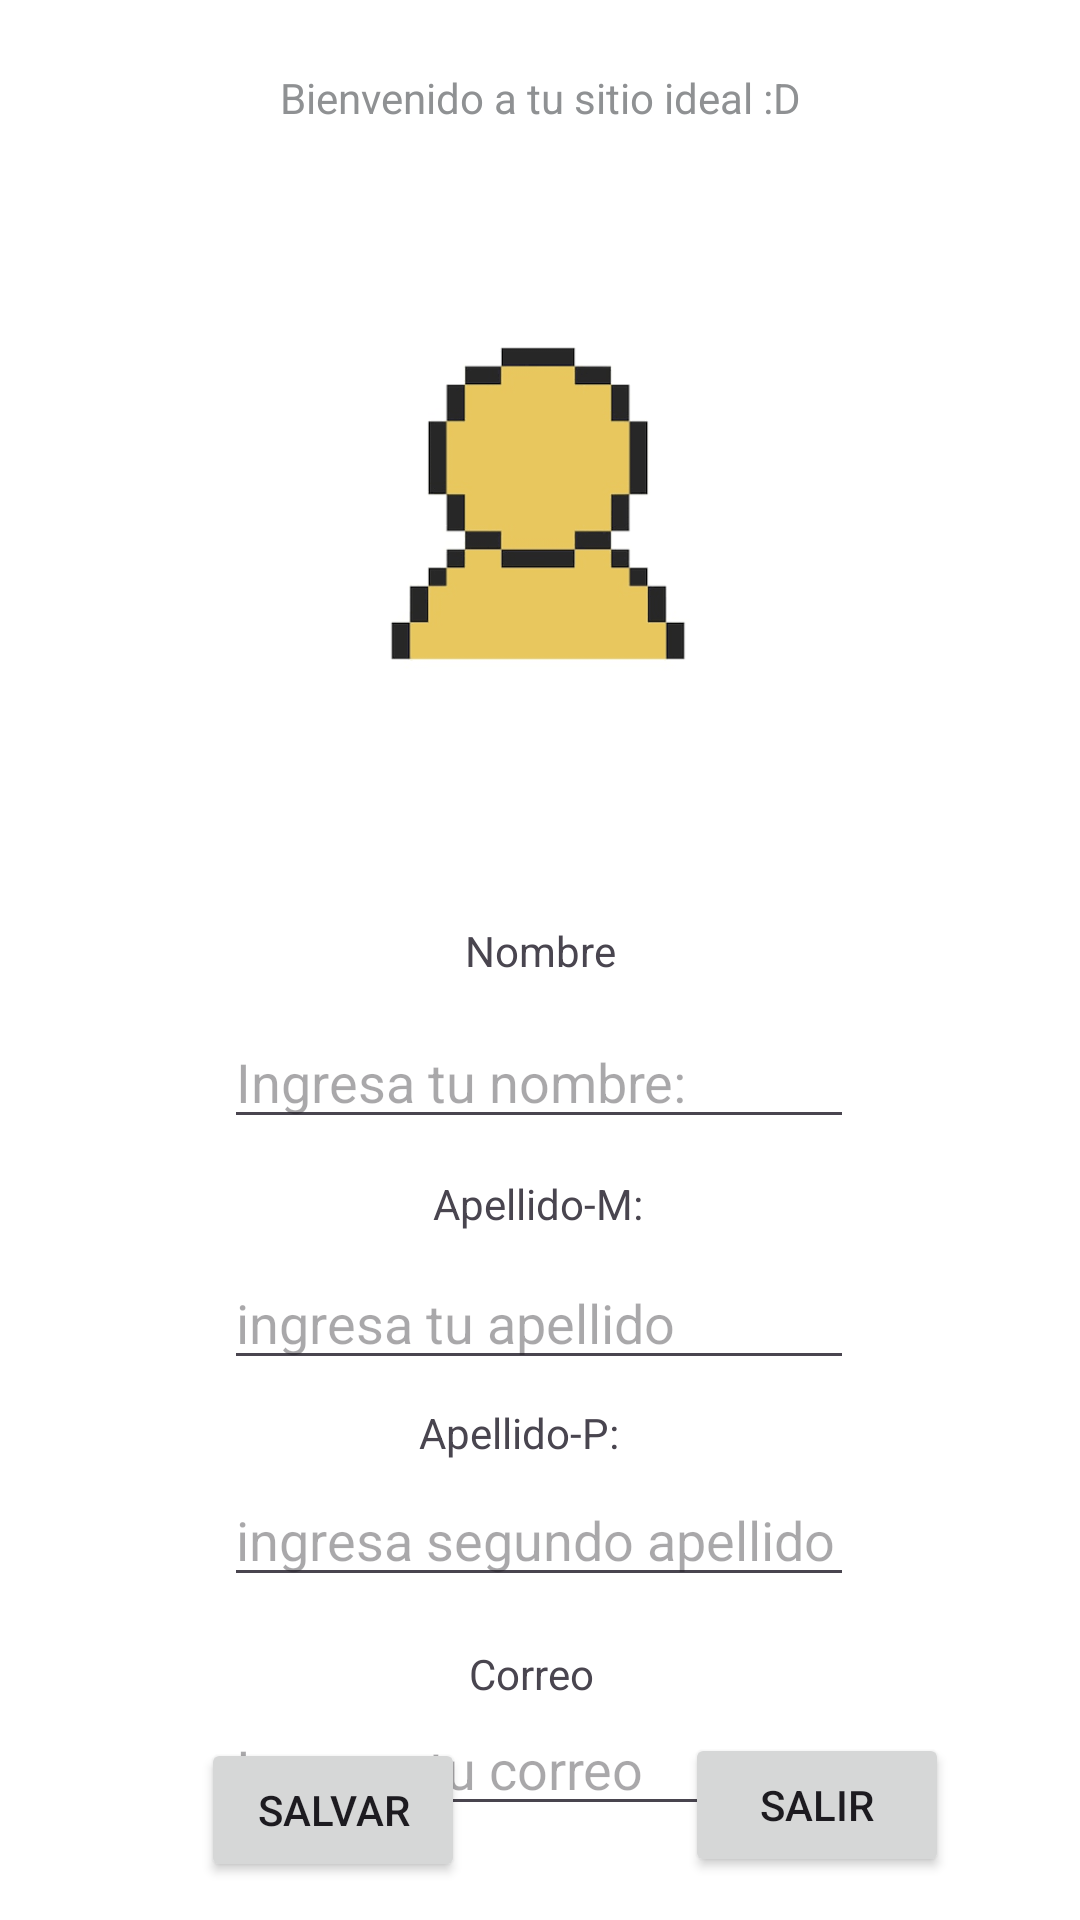

Icon click points for this 1080x1920 phone screenshot, format (x=x, y=y):
user: (x=538, y=503)
